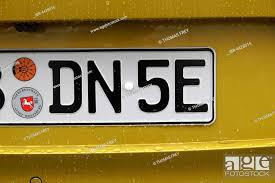5: (132, 56, 172, 115)
D: (48, 59, 85, 116)
E: (171, 56, 208, 117)
N: (85, 58, 125, 116)
